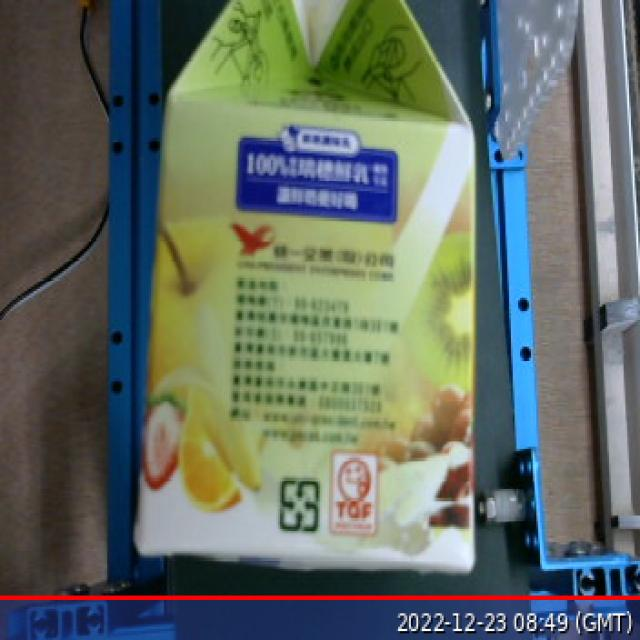non_white_jug: (112, 1, 497, 582)
